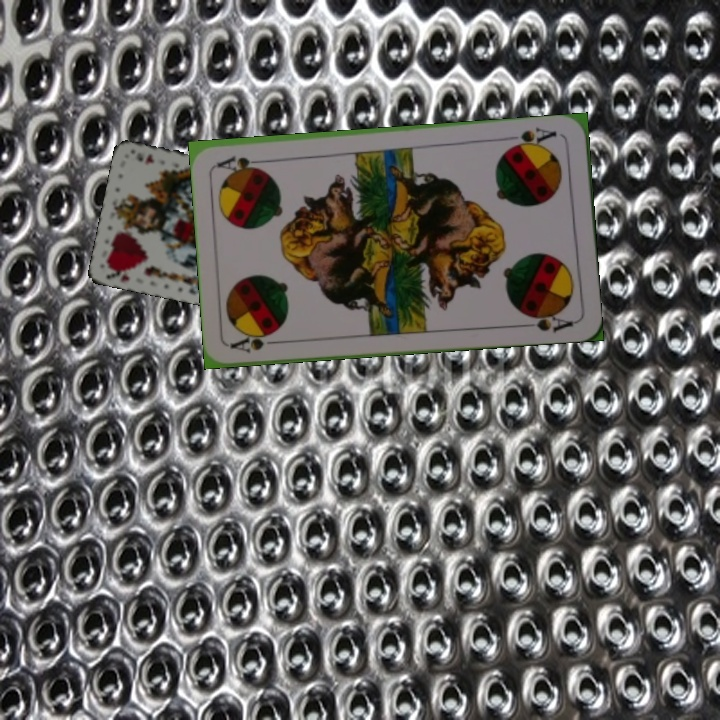HK: (102, 261, 133, 284)
SA: (227, 328, 287, 356), (503, 123, 559, 152)
